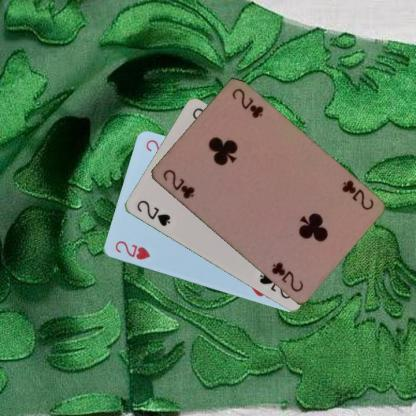2c: (336, 177, 375, 212), (159, 166, 196, 200)
2h: (112, 238, 151, 262)
2s: (134, 198, 172, 228)
